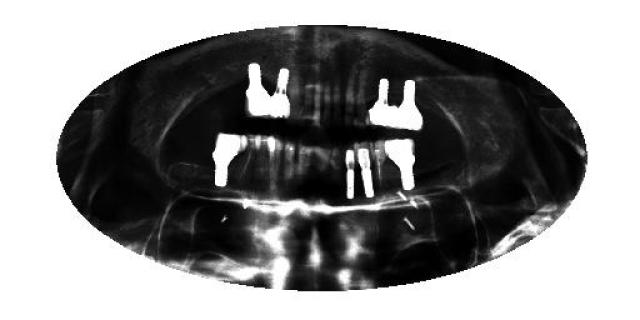Implant: (211, 134, 241, 188), (365, 78, 395, 130), (385, 139, 415, 190), (395, 79, 424, 131), (245, 62, 271, 116), (355, 145, 376, 199), (271, 68, 290, 120), (340, 148, 358, 198)
